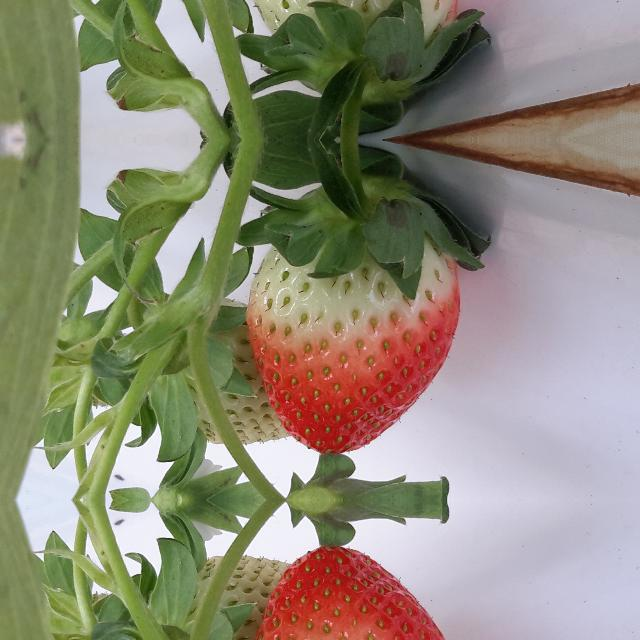Health_75: (243, 235, 462, 455), (242, 545, 461, 640), (242, 0, 461, 45)
